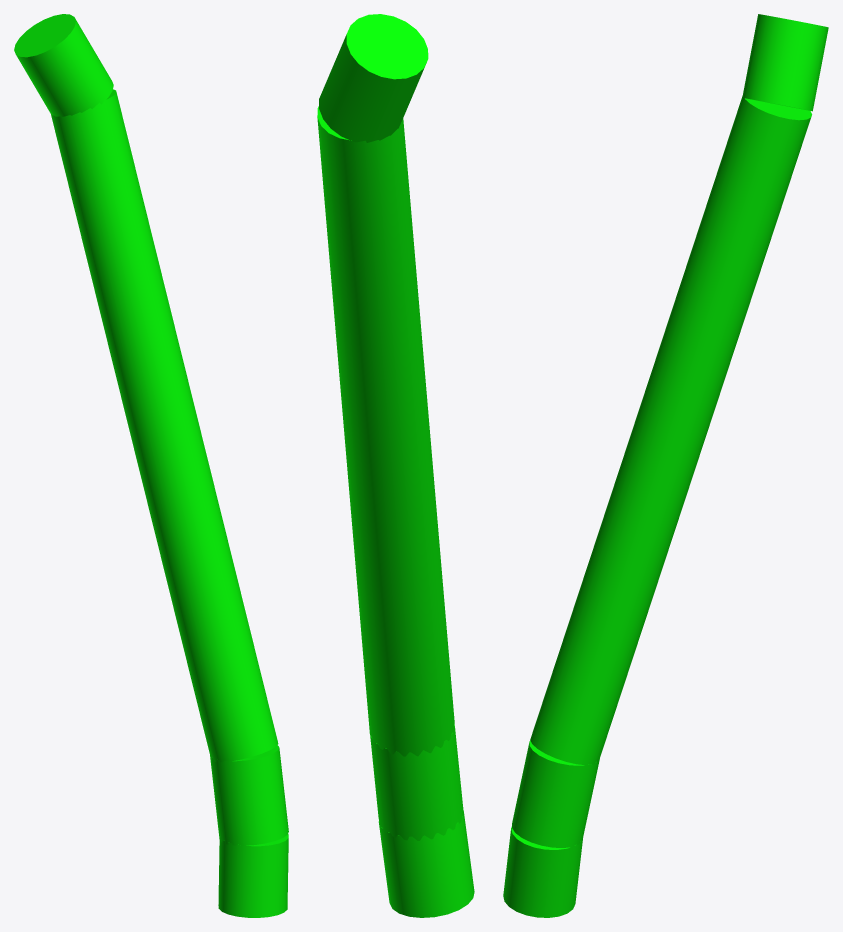
3 renders of one model, left to right at view 1: azimuth 30°, elevation 25°; view 2: azimuth 150°, elevation 25°; view 3: azimuth 270°, elevation 25°, orthographic. The views are drawn at different scales.
Visible parts, largest first — view 1: Cylinder(Clone) (×4); view 2: Cylinder(Clone) (×4); view 3: Cylinder(Clone) (×4).
Part boxes in pixels (left/top/right/bottom): Cylinder(Clone) (×4): left=14, top=14, right=288, bottom=917; Cylinder(Clone) (×4): left=317, top=14, right=474, bottom=917; Cylinder(Clone) (×4): left=503, top=14, right=828, bottom=917.
Bounding box in the file's own units: 0.0245 × 0.1298 × 0.0448.
